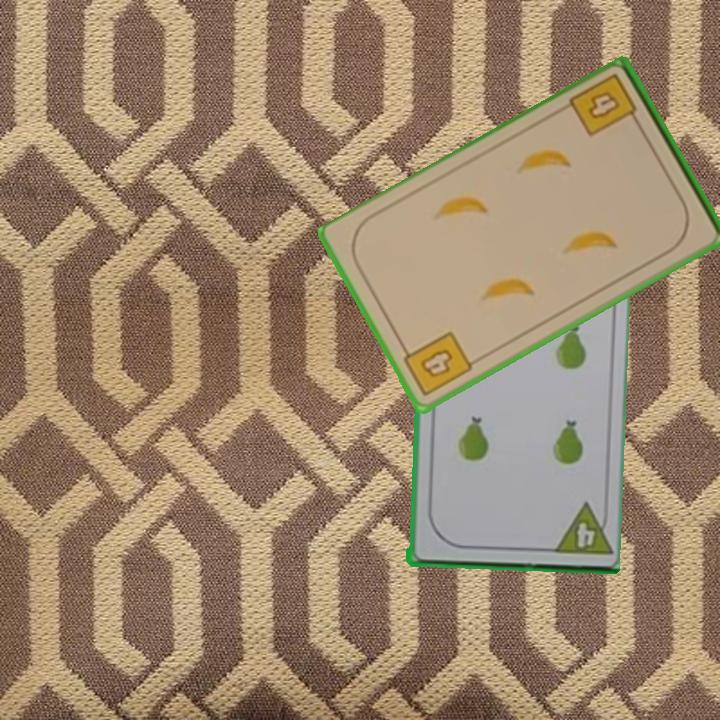4b: (397, 328, 476, 400), (566, 70, 644, 140)
4p: (546, 498, 612, 558)
